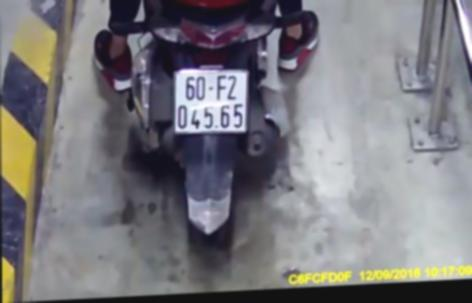License_Plate: (171, 59, 255, 144)
